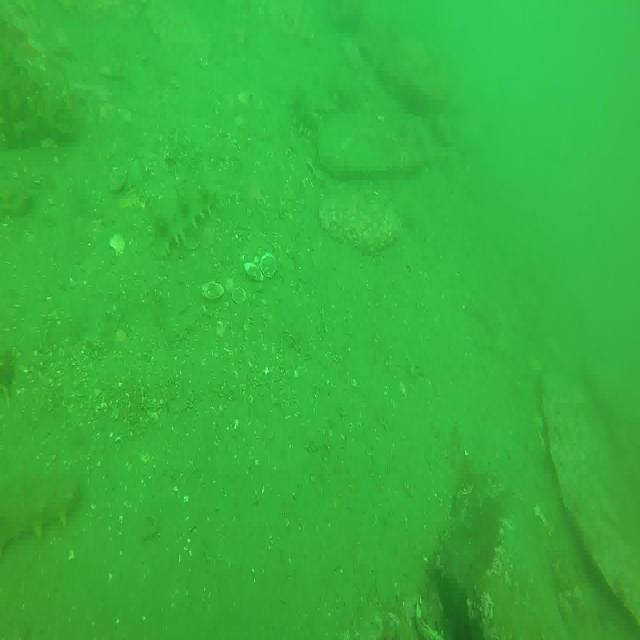holothurian: (0, 475, 88, 549), (152, 182, 214, 256), (288, 81, 324, 136)
